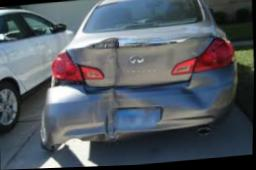Bumper: (42, 64, 240, 150)
Dickey: (64, 35, 213, 84)
